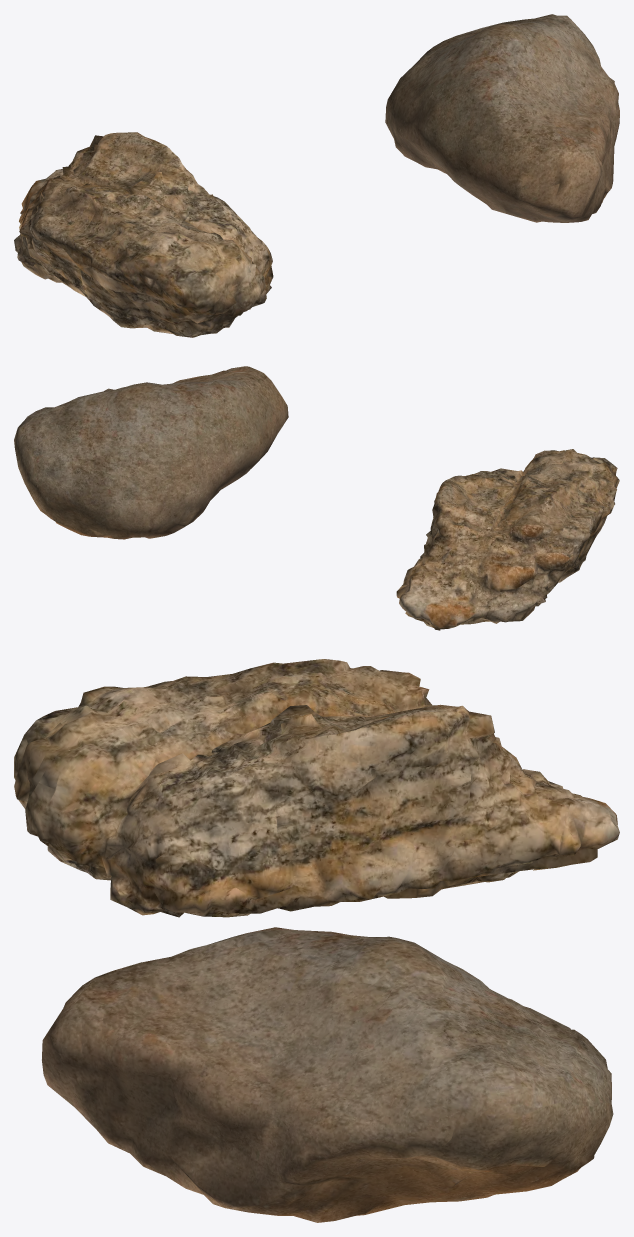
The model's file is namaqualand_boulders_01.glb.
The picture shows the model from 3 angles, top to bottom: view 1: azimuth 30°, elevation 25°; view 2: azimuth 150°, elevation 25°; view 3: azimuth 270°, elevation 25°; orthographic projection. The views are drawn at different scales.
Parts seen in each view (by area): view 1: namaqualand_rocks_01_a; view 2: namaqualand_rocks_01_a; view 3: namaqualand_rocks_01_a.
Boxes of the visible parts, x1,y1,x2,y2 form: namaqualand_rocks_01_a: [14, 14, 619, 337]; namaqualand_rocks_01_a: [14, 366, 619, 630]; namaqualand_rocks_01_a: [14, 659, 619, 1222].
Size of the model in its own units: 1.06 by 0.2496 by 0.5838.
Materials: 1 (1 with a texture image).
